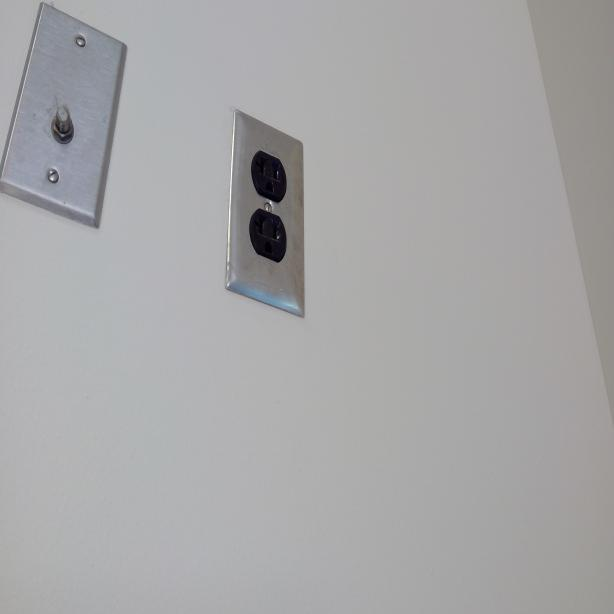typeb: (252, 207, 286, 265), (253, 144, 287, 201)
